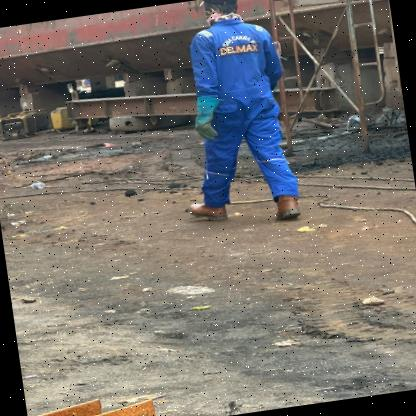bota: (188, 196, 228, 224), (268, 191, 303, 222)
